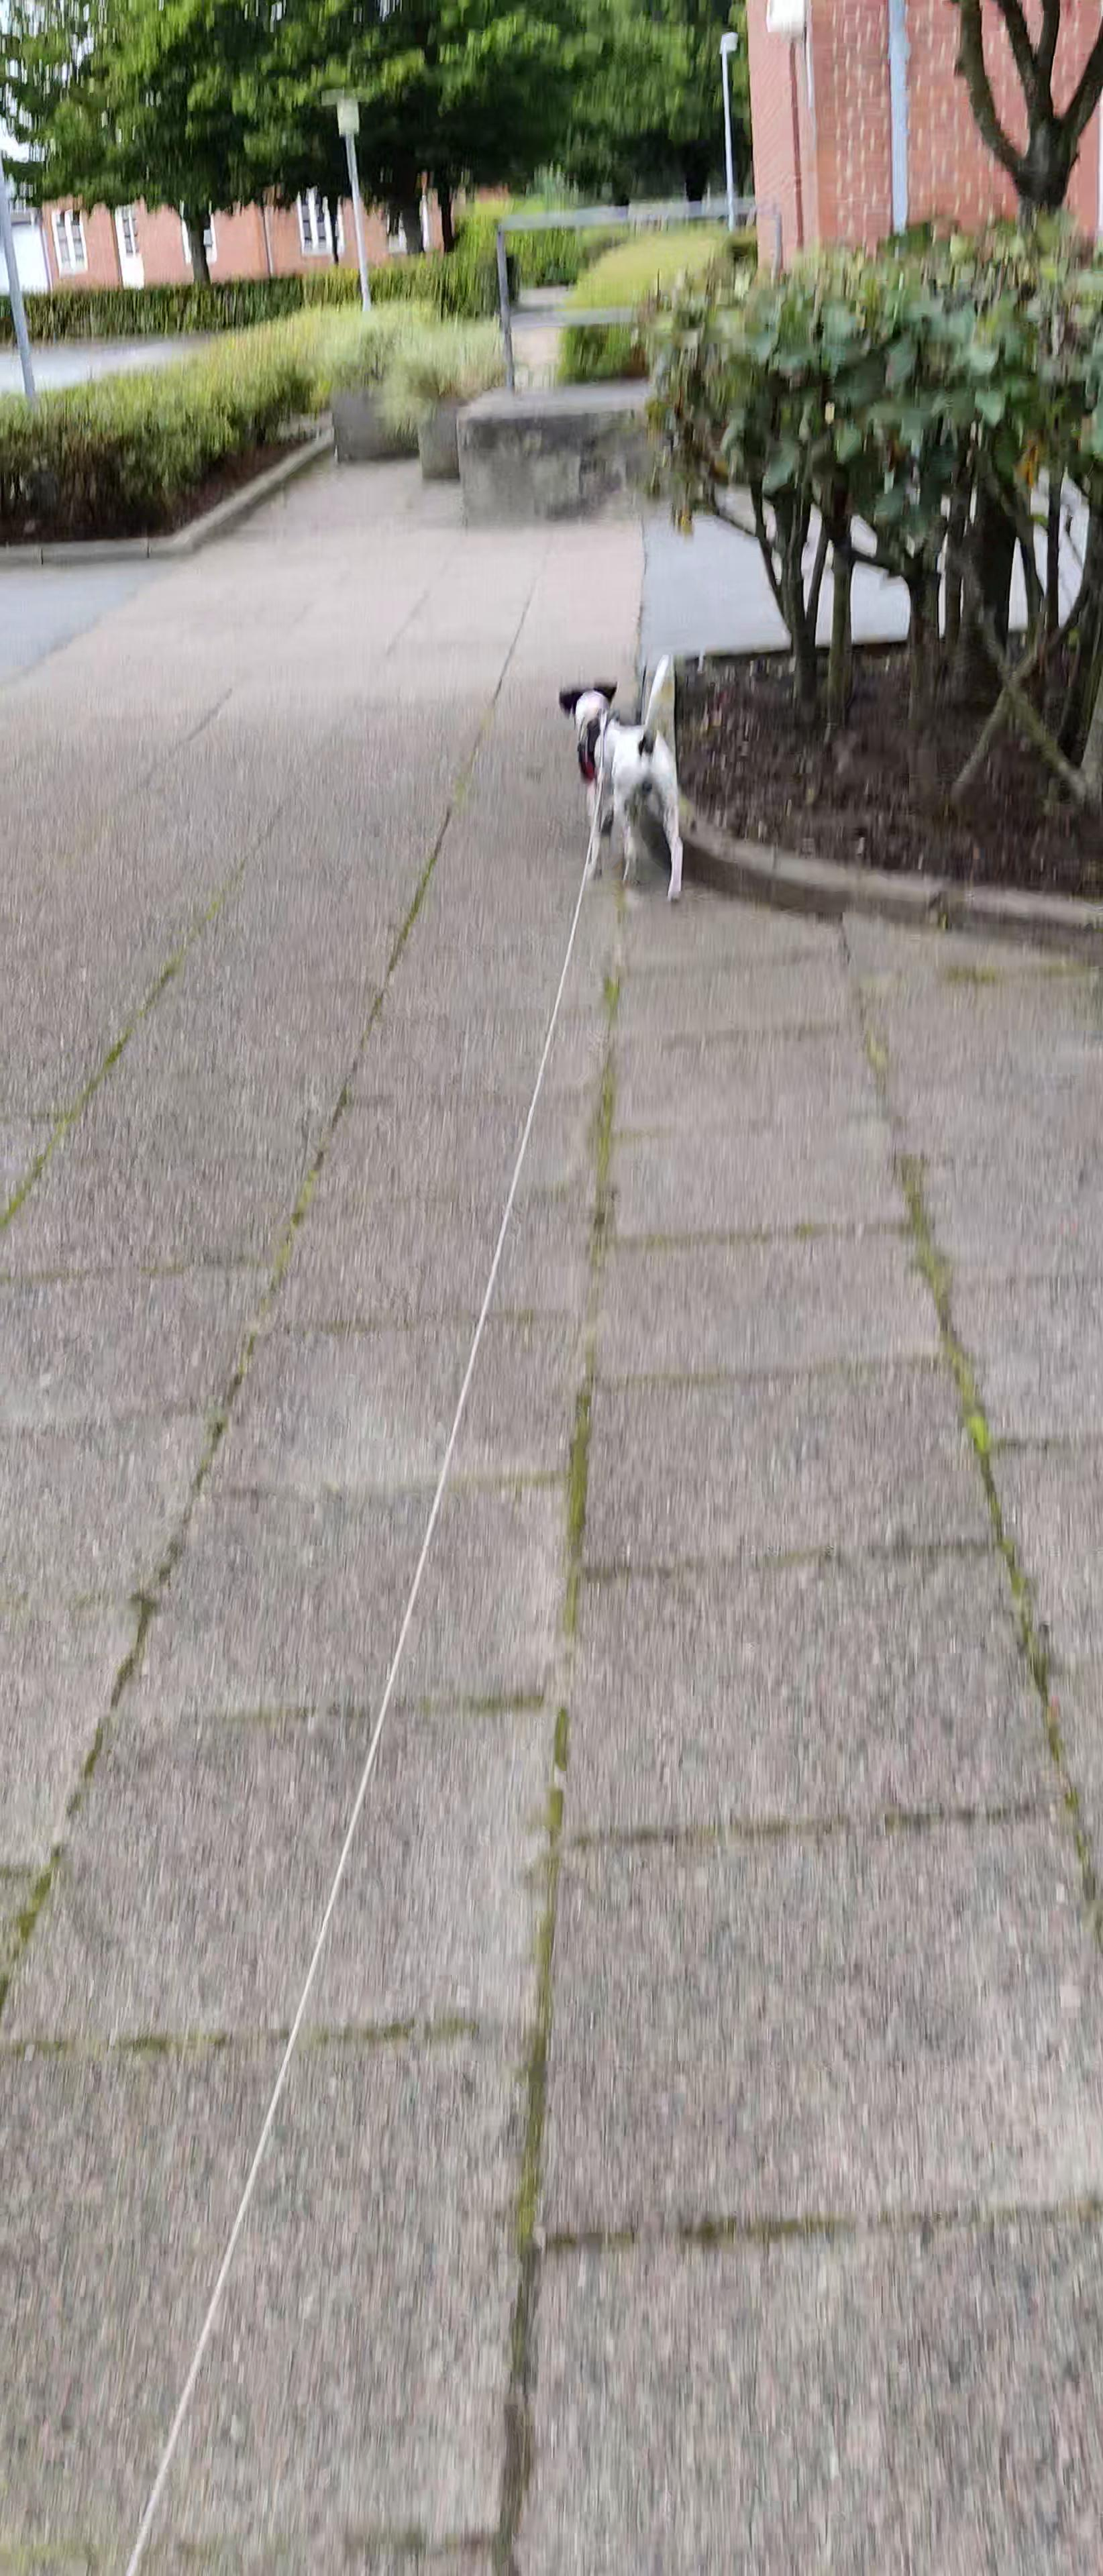Dog: (556, 651, 690, 907)
